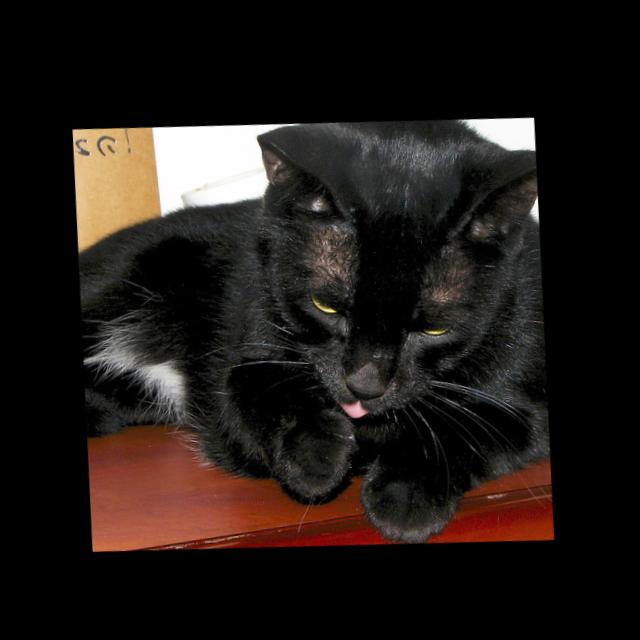animals: (253, 116, 553, 405)
